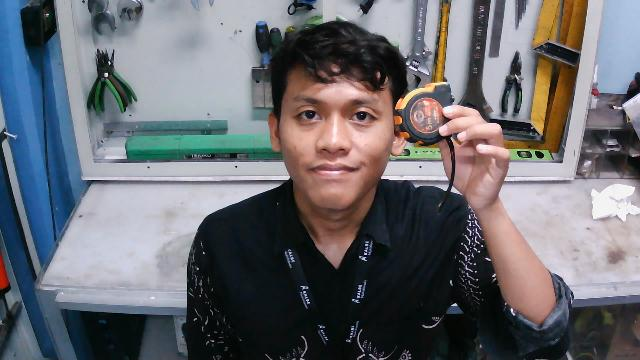meteran: (389, 78, 463, 162)
